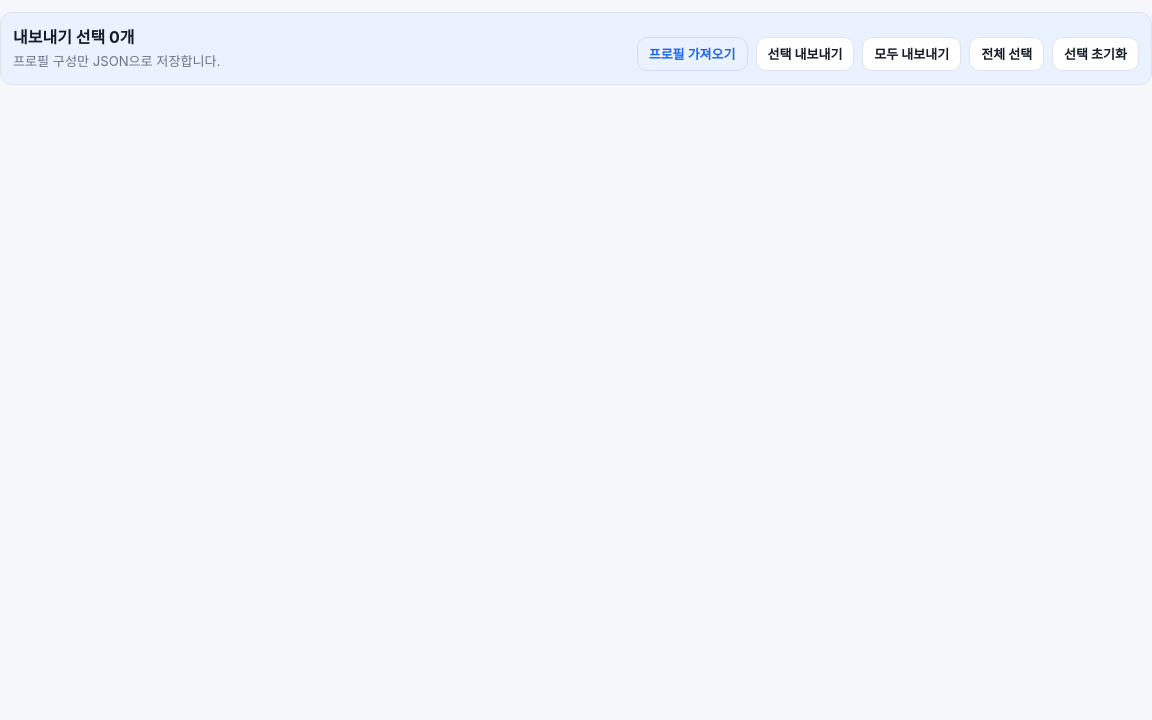
Test case: ProfileTransferPanel › opens a keyboard-accessible file dialog without writing
The image size is (1152, 720).
Click the button "프로필 가져오기".
click(692, 54)  # box left=637, top=37, right=748, bottom=71
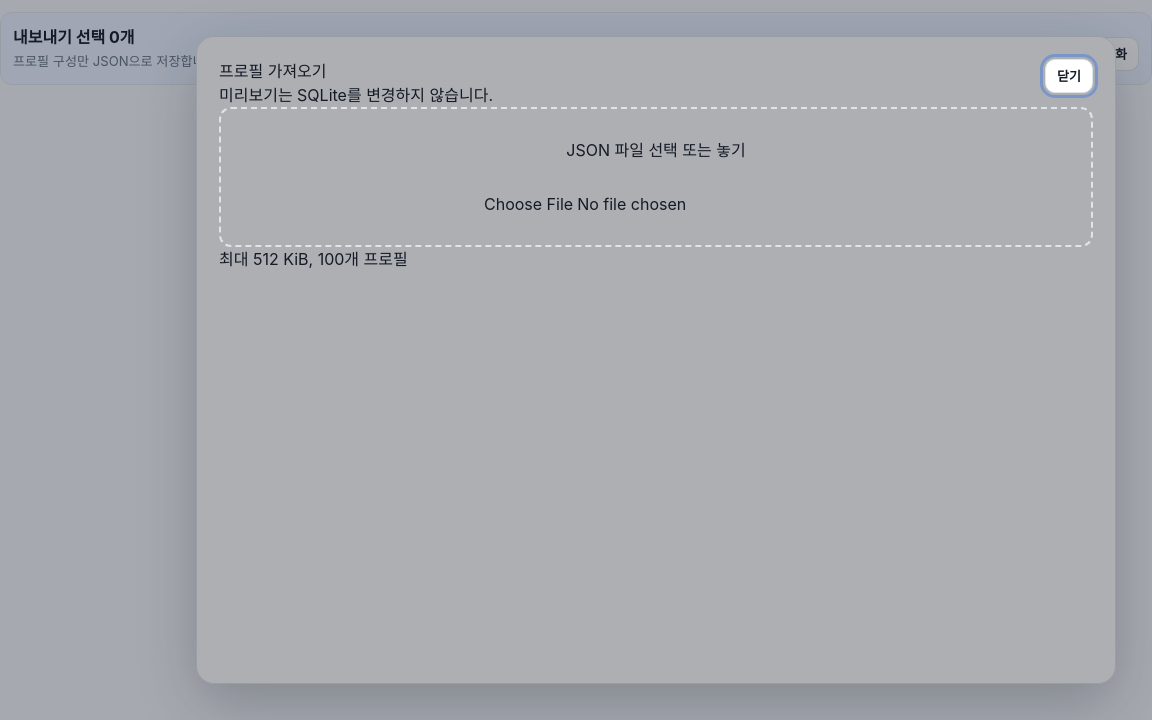
Expected: the dialog "프로필 가져오기" is shown
Expected: the text "미리보기는 SQLite를 변경하지 않습니다." is shown, left=219, top=83, right=493, bottom=107
